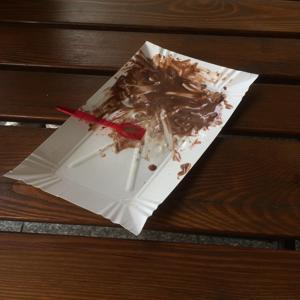cardboard: (1, 36, 260, 238)
plastic: (53, 100, 154, 143)
